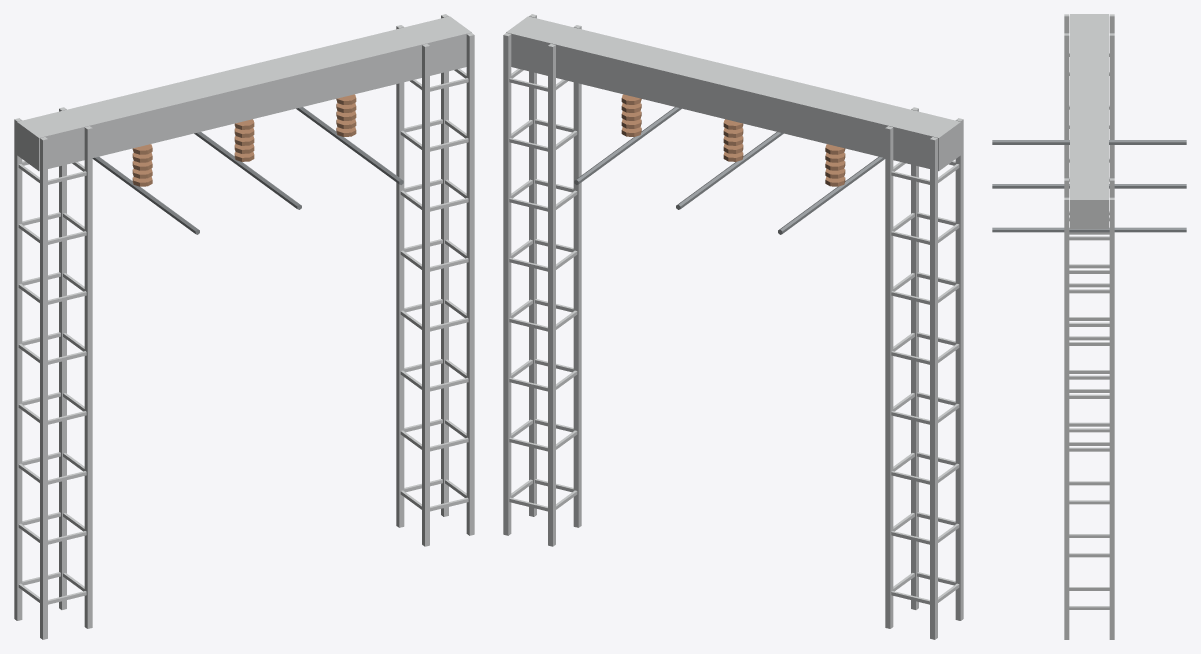
File: fv_gantry.glb
3 renders of one model, left to right at view 1: azimuth 30°, elevation 25°; view 2: azimuth 150°, elevation 25°; view 3: azimuth 270°, elevation 25°, orthographic. The views are drawn at different scales.
Parts seen in each view (by area): view 1: fv_gantry; view 2: fv_gantry; view 3: fv_gantry.
Boxes of the visible parts, <box> form: fv_gantry: <box>14,14,474,639</box>; fv_gantry: <box>503,14,963,639</box>; fv_gantry: <box>992,14,1186,639</box>.
Bounding box in the file's own units: 6.8 × 7.5 × 3.
